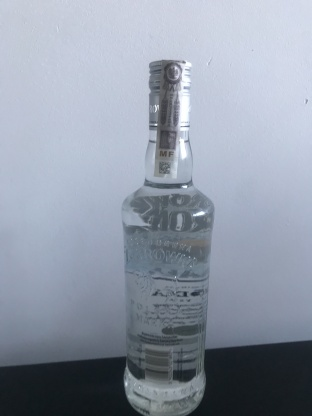nakretka: (145, 55, 194, 134)
